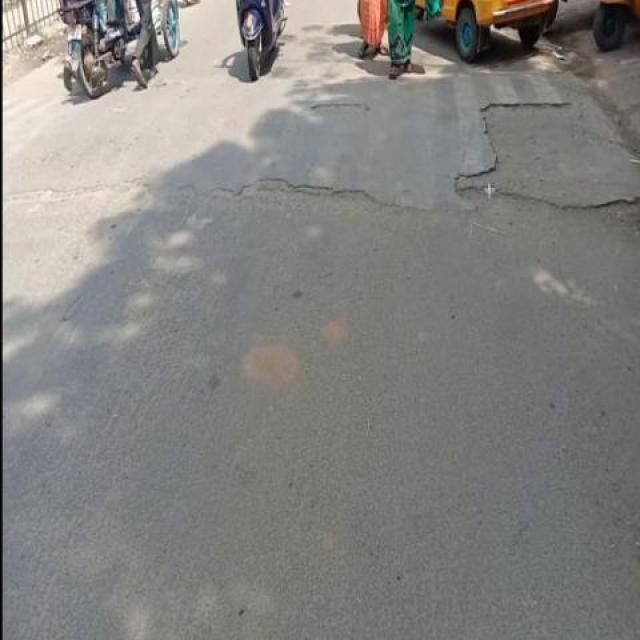Speed Bump: (1, 68, 640, 210)
